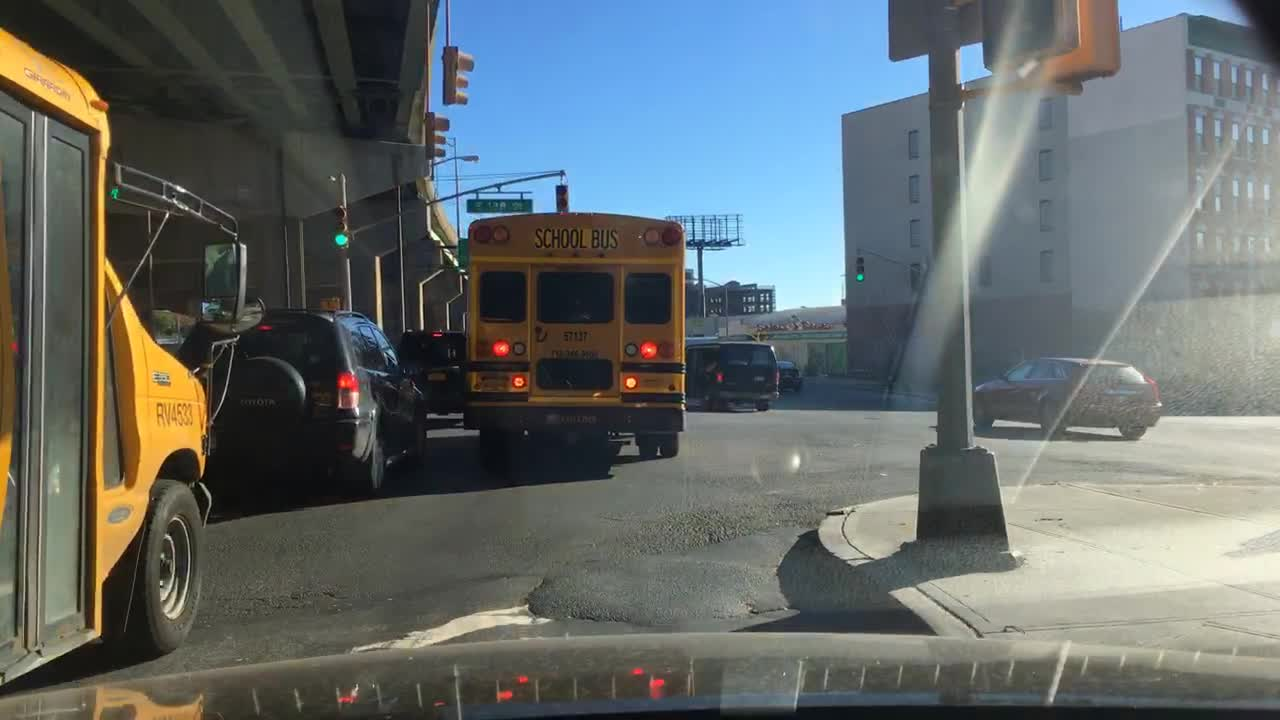bus: (457, 210, 692, 474)
car: (196, 298, 435, 511), (968, 353, 1168, 448), (393, 324, 481, 434), (686, 336, 785, 415), (770, 360, 805, 397), (835, 366, 897, 385), (816, 368, 847, 386)
traffic light: (970, 0, 1121, 91), (440, 44, 479, 110), (420, 107, 449, 162), (328, 199, 354, 259), (552, 179, 572, 210), (853, 254, 869, 283)
traffic sign: (880, 0, 981, 61), (756, 324, 849, 346), (464, 194, 537, 216)
truck: (0, 27, 268, 695)
